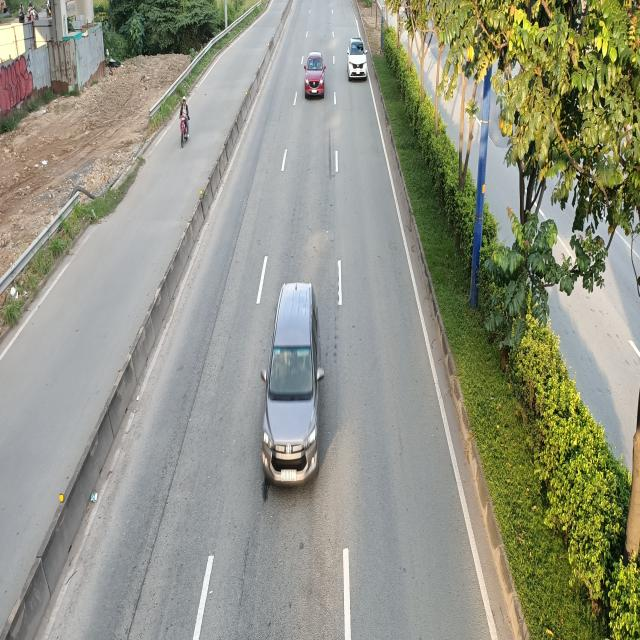car: (262, 282, 324, 486), (303, 52, 328, 100), (346, 39, 368, 81)
